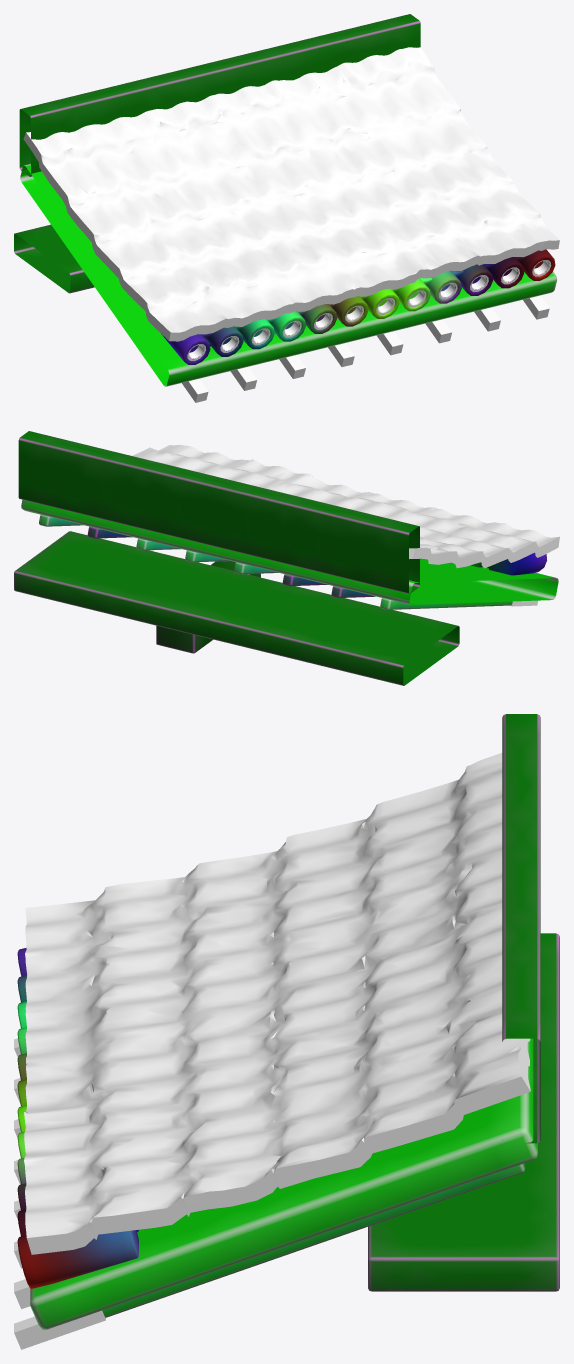
Rendered from overhang_side_200_01.fbx.
3 views of the same model, one above another, from view 1: azimuth 30°, elevation 25°; view 2: azimuth 150°, elevation 25°; view 3: azimuth 270°, elevation 25° (orthographic). The views are drawn at different scales.
Visible parts, largest first — view 1: overhang_side_200_01; view 2: overhang_side_200_01; view 3: overhang_side_200_01.
Part boxes in pixels (x1,y1,x2,y2): overhang_side_200_01: (14,14,559,402); overhang_side_200_01: (14,431,559,685); overhang_side_200_01: (14,714,559,1349).
Bounding box in the file's own units: 2 × 0.9271 × 1.42.
